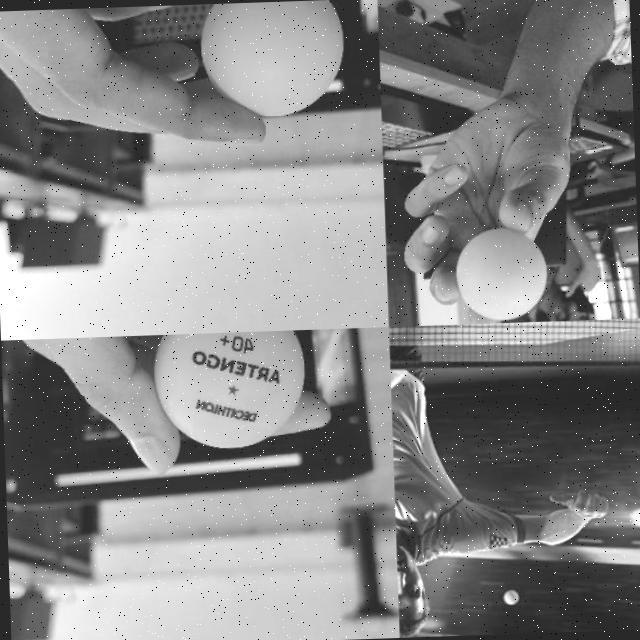ping-pong-ball: (149, 330, 311, 450), (195, 0, 345, 118), (456, 229, 546, 322), (503, 592, 517, 606)
